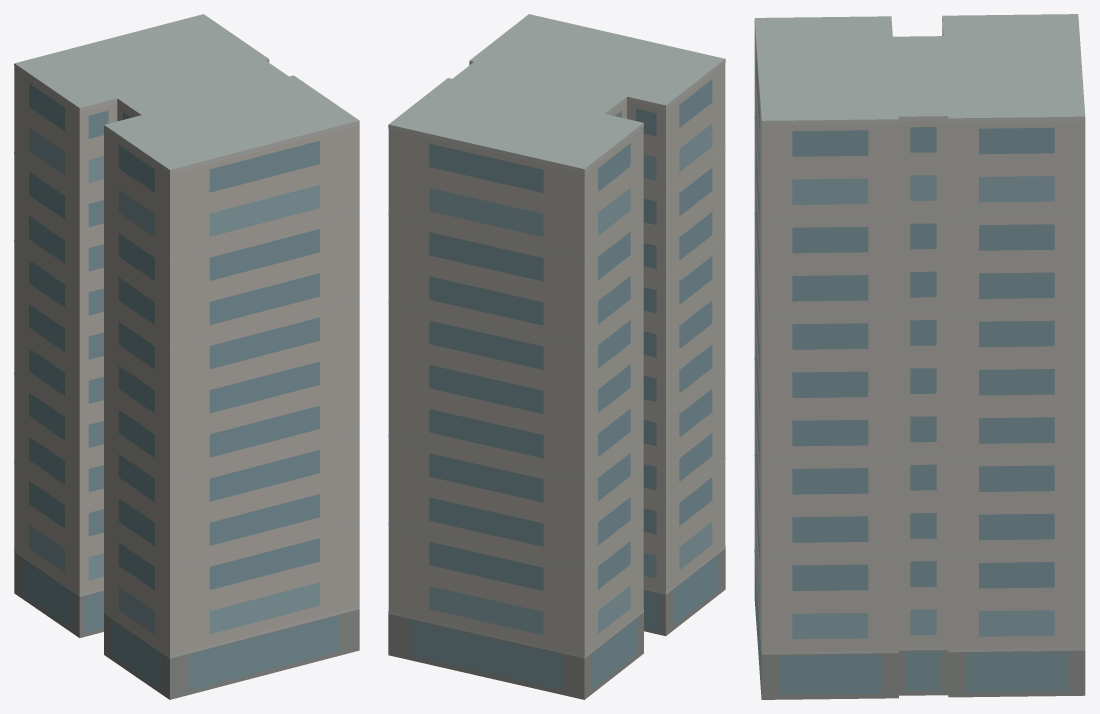
File: survey-upis-32744107.glb
3 views of the same model, side by side, from view 1: azimuth 30°, elevation 25°; view 2: azimuth 150°, elevation 25°; view 3: azimuth 270°, elevation 25° (orthographic). The views are drawn at different scales.
Visible parts, largest first — view 1: survey-upis-32744107.tmp; view 2: survey-upis-32744107.tmp; view 3: survey-upis-32744107.tmp.
Boxes of the visible parts, x1,y1,x2,y2 form: survey-upis-32744107.tmp: [14, 14, 359, 699]; survey-upis-32744107.tmp: [388, 14, 725, 699]; survey-upis-32744107.tmp: [754, 14, 1085, 699].
Size of the model in its own units: 12.02 by 30.3 by 15.71.
